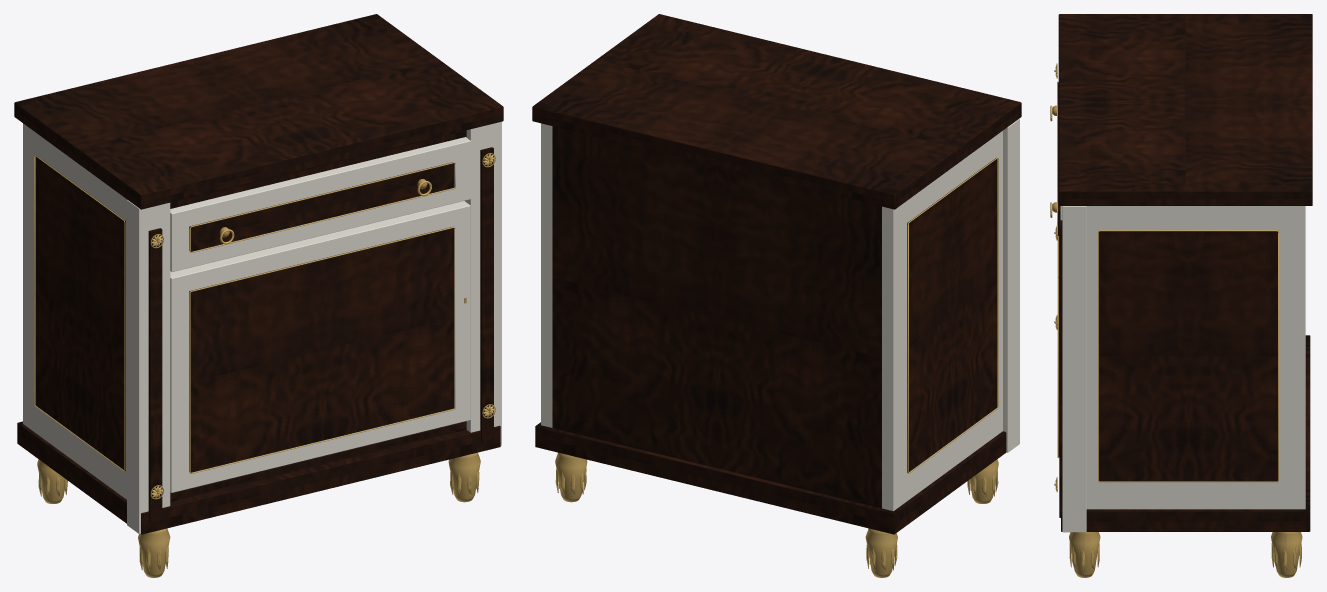
3 renders of one model, left to right at view 1: azimuth 30°, elevation 25°; view 2: azimuth 150°, elevation 25°; view 3: azimuth 270°, elevation 25°, orthographic.
Visible parts, largest first — view 1: Belgravia drawer-and-door night table | bedroom-27 web batch; view 2: Belgravia drawer-and-door night table | bedroom-27 web batch; view 3: Belgravia drawer-and-door night table | bedroom-27 web batch.
Part boxes in pixels (x1=…): Belgravia drawer-and-door night table | bedroom-27 web batch: x1=14, y1=14, x2=503, y2=577; Belgravia drawer-and-door night table | bedroom-27 web batch: x1=532, y1=14, x2=1021, y2=577; Belgravia drawer-and-door night table | bedroom-27 web batch: x1=1050, y1=14, x2=1312, y2=577.
Bounding box in the file's own units: 0.72 × 0.75 × 0.45.
6 materials, 2 textured.
